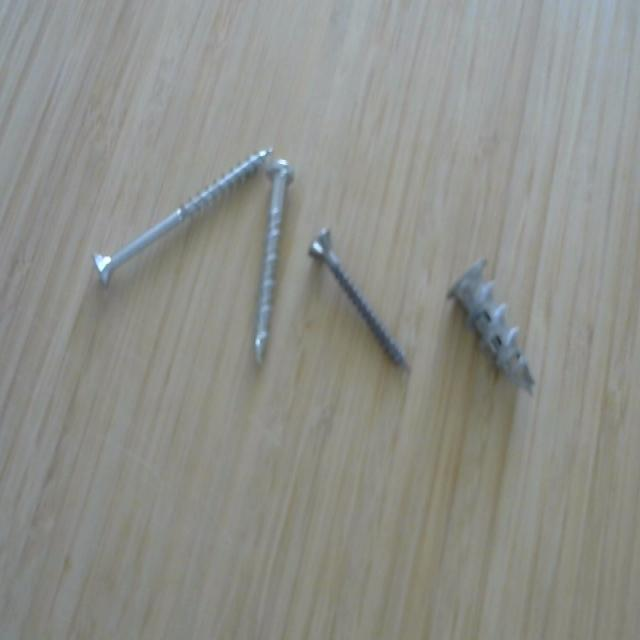Black screw: (298, 216, 425, 388)
Long screw: (85, 136, 279, 300)
Medium screw: (249, 152, 300, 366)
Short screw: (438, 247, 551, 413)
